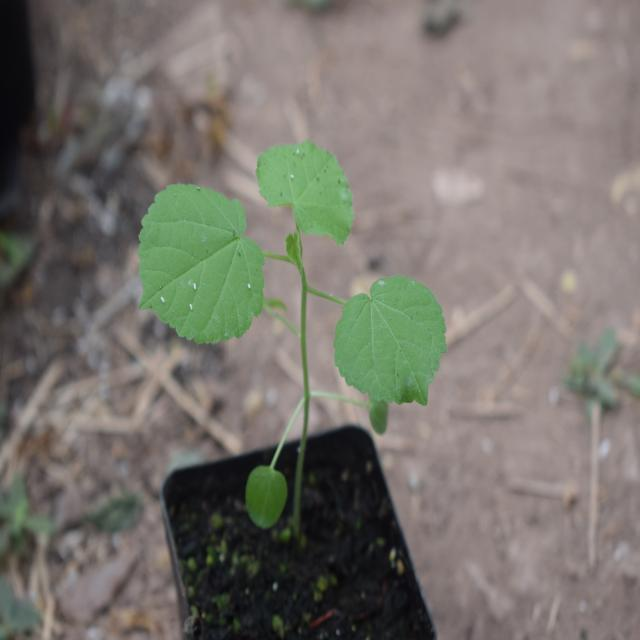abutilon theophrasti: (128, 122, 418, 506)
